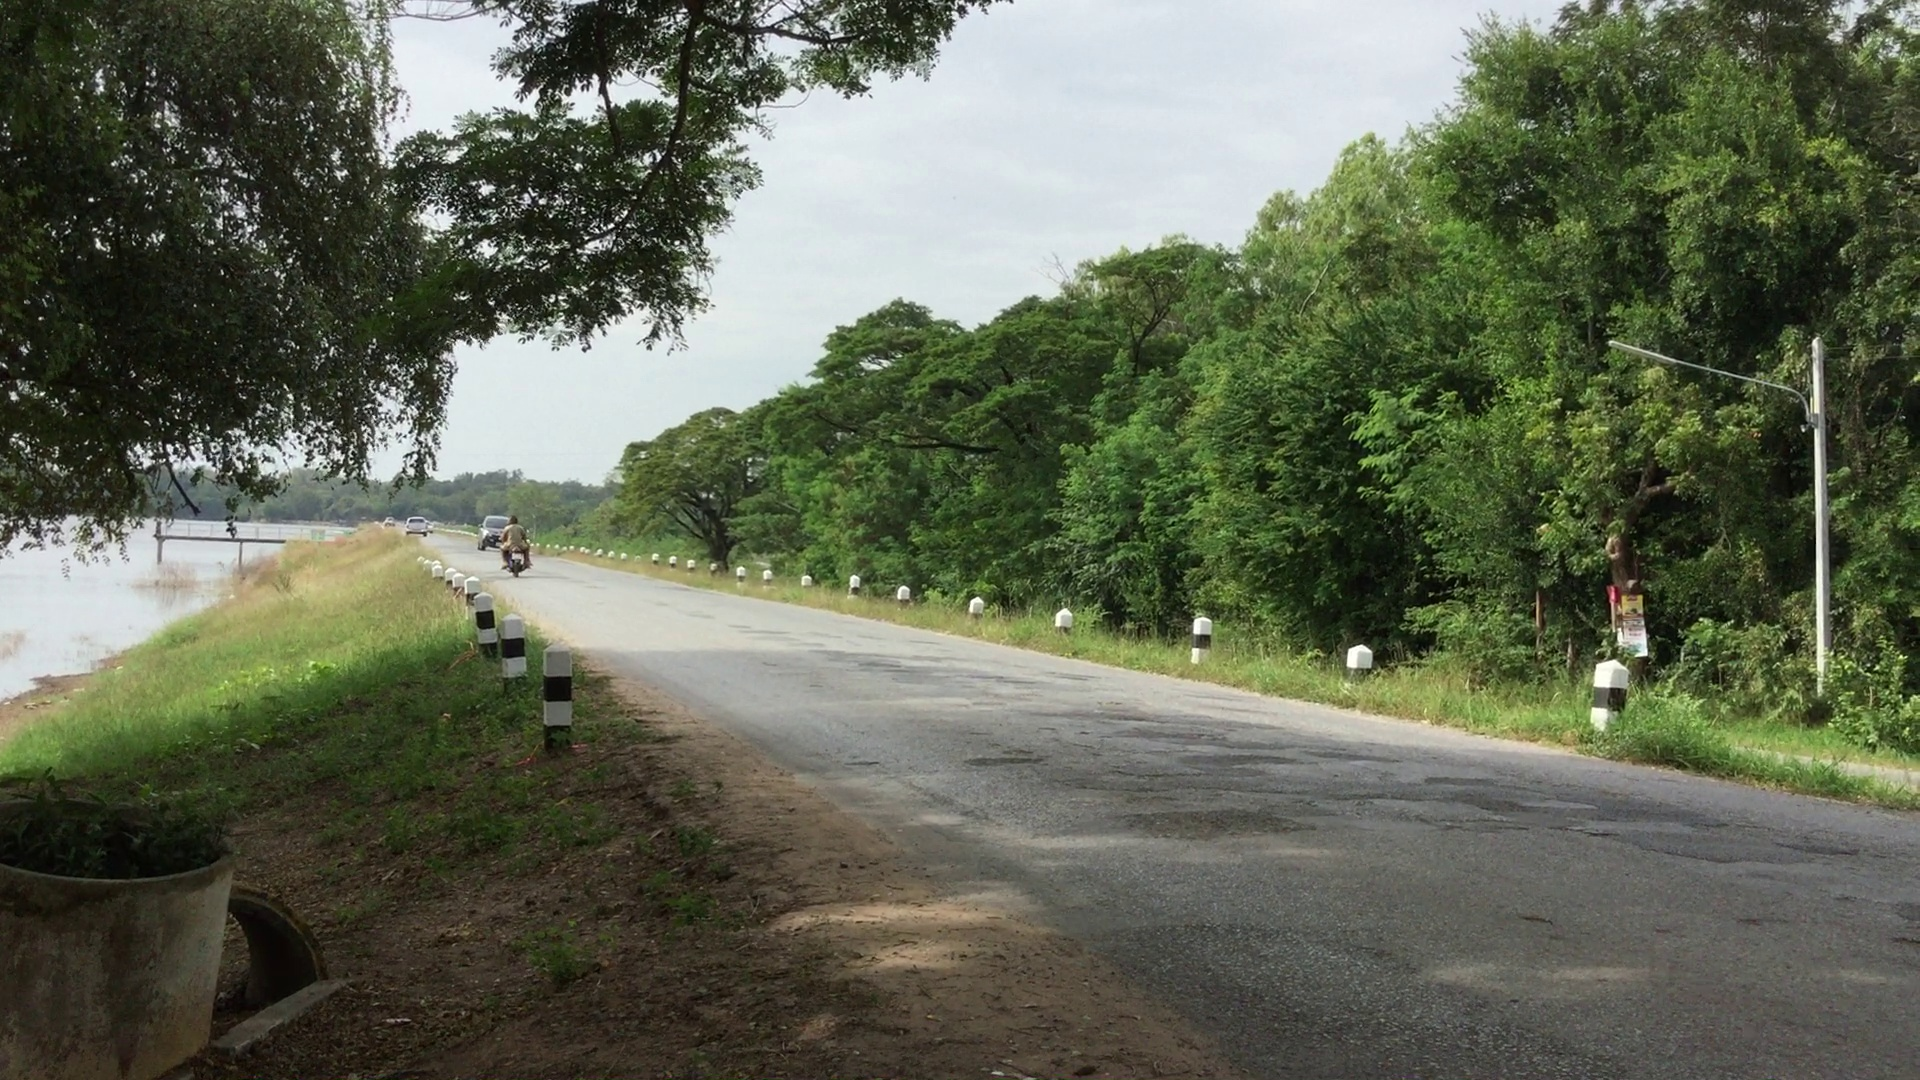car: (479, 512, 509, 549)
person: (499, 513, 536, 575)
post: (539, 641, 579, 748), (1591, 654, 1628, 741), (499, 610, 535, 688), (472, 592, 500, 657), (1188, 614, 1217, 666), (1345, 640, 1373, 682), (1053, 604, 1076, 636), (961, 594, 986, 621), (895, 584, 911, 606), (849, 575, 861, 601)
